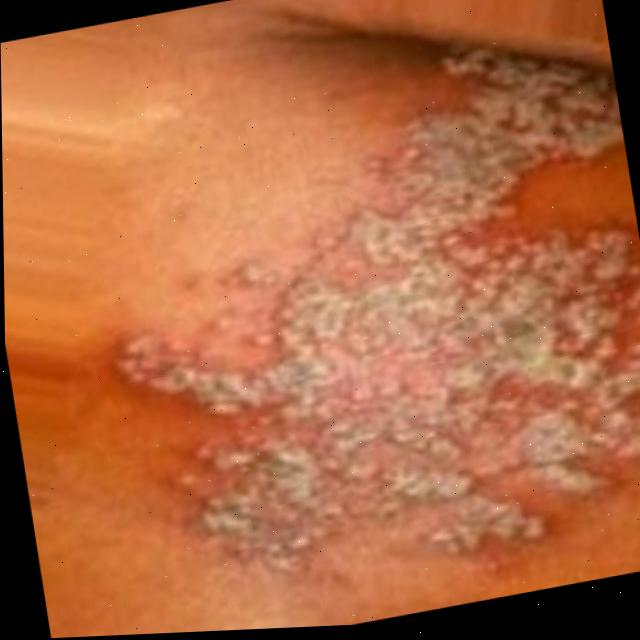Shingles: (103, 23, 640, 579)
